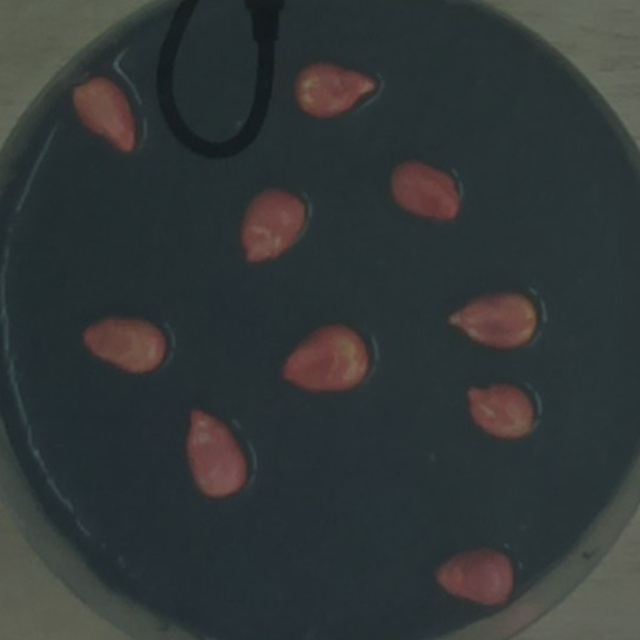Zea mays: (271, 315, 376, 399), (176, 400, 253, 504), (439, 281, 543, 356), (230, 179, 313, 270), (64, 67, 143, 160), (286, 54, 388, 126), (75, 309, 174, 380), (428, 539, 519, 611), (381, 151, 466, 226), (458, 374, 540, 445)
